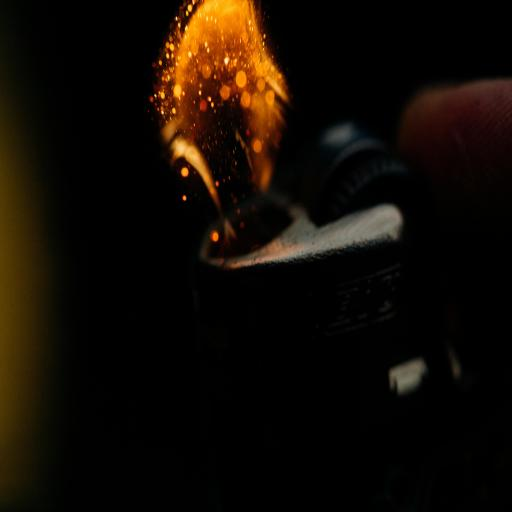lighter: (105, 0, 427, 361)
